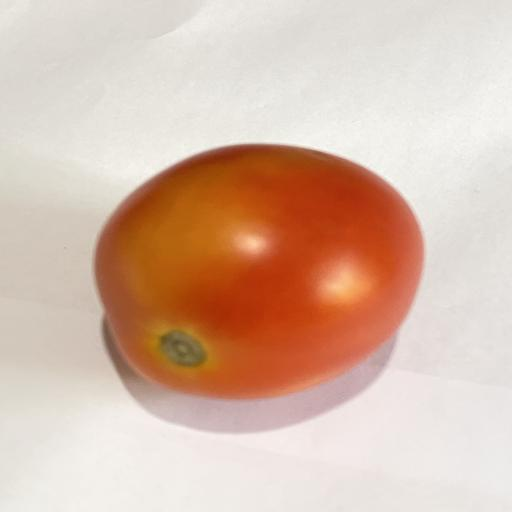ripe: (95, 144, 423, 399)
